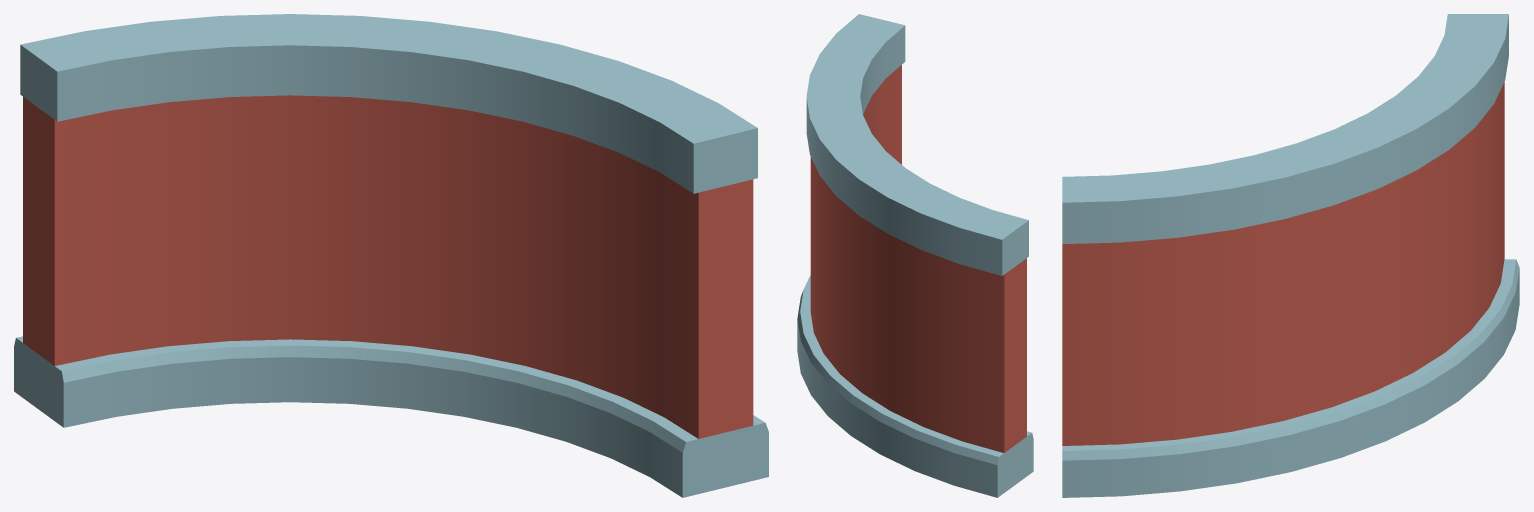
The model's file is brickWallCurve.obj.
3 views of the same model, side by side, from view 1: azimuth 30°, elevation 25°; view 2: azimuth 150°, elevation 25°; view 3: azimuth 270°, elevation 25° (orthographic). The views are drawn at different scales.
Visible parts, largest first — view 1: brickWallCurve; view 2: brickWallCurve; view 3: brickWallCurve.
Boxes of the visible parts, box(x1,y1,x2,y2) form: brickWallCurve: box(14, 14, 768, 497); brickWallCurve: box(797, 14, 1033, 497); brickWallCurve: box(1062, 14, 1519, 497).
Size of the model in its own units: 1 by 0.7019 by 1.
